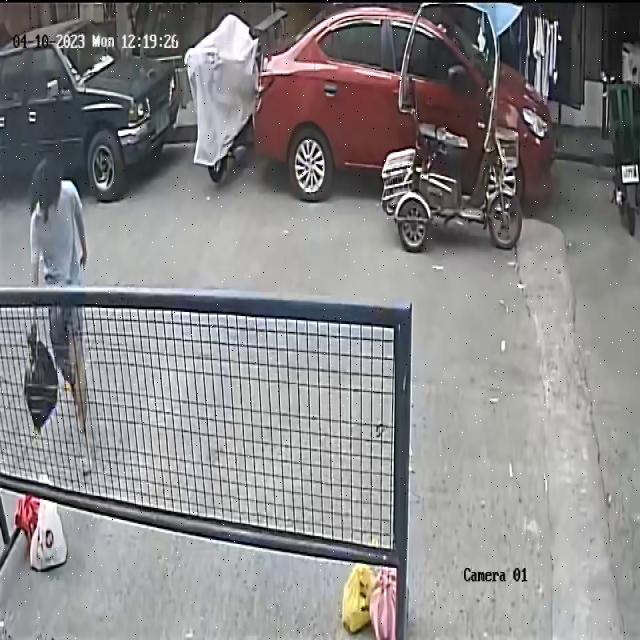human: (22, 157, 92, 473)
trash: (338, 544, 400, 640), (17, 473, 69, 578), (17, 319, 60, 437)
